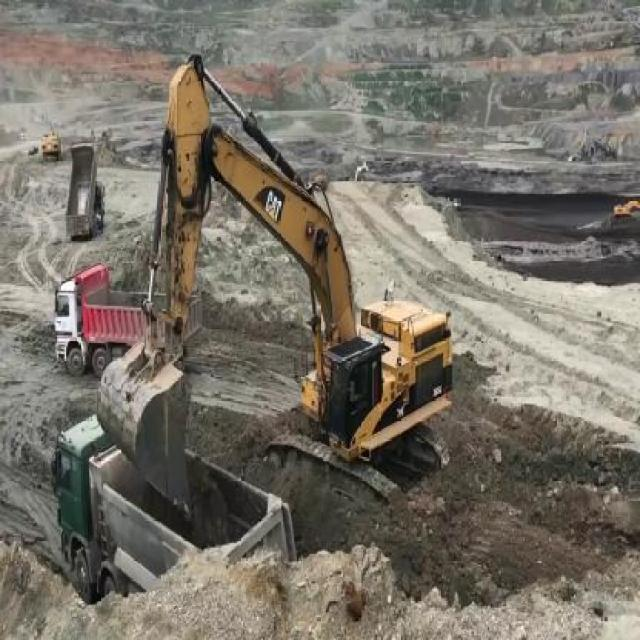dump_truck: (52, 410, 297, 605), (52, 266, 202, 376), (63, 146, 106, 234)
excavator: (101, 54, 453, 508), (40, 124, 62, 164), (613, 198, 639, 219)
